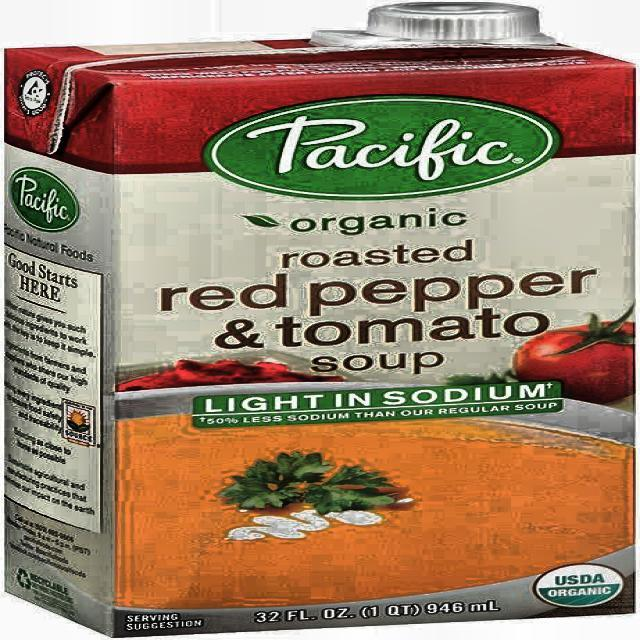cardboard: (3, 33, 636, 636)
